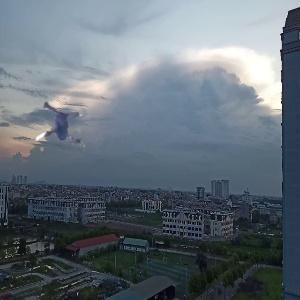drone: (9, 88, 94, 173)
